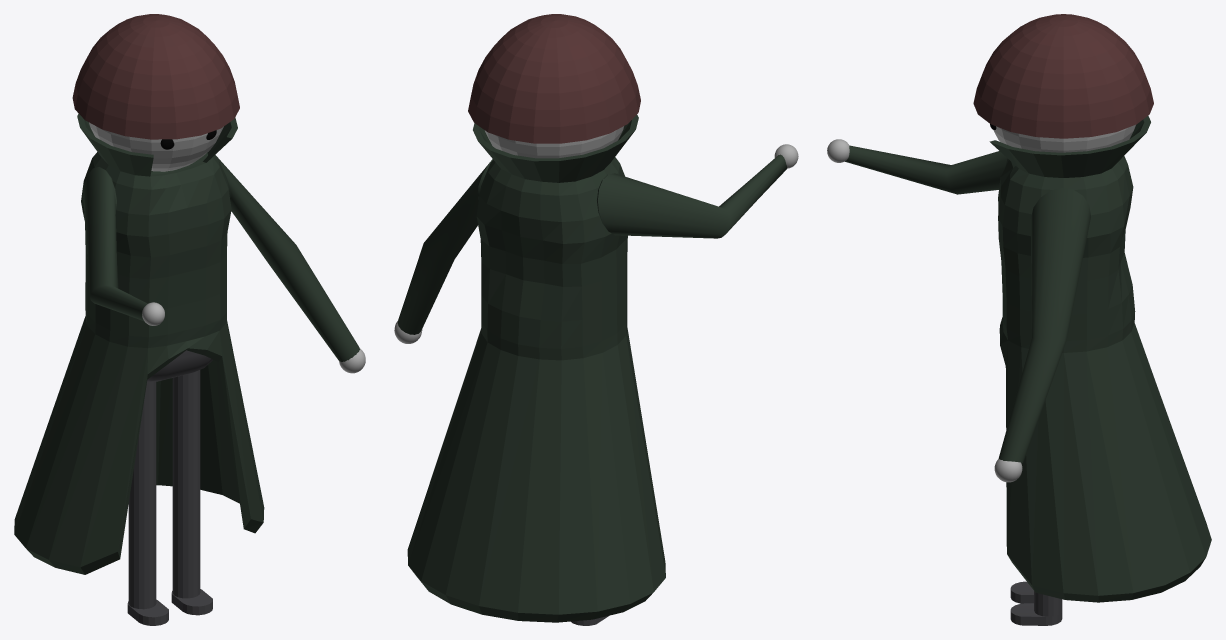
Rendered from maineCharacter.fbx.
The picture shows the model from 3 angles, left to right: view 1: azimuth 30°, elevation 25°; view 2: azimuth 150°, elevation 25°; view 3: azimuth 270°, elevation 25°; orthographic projection. The views are drawn at different scales.
Parts seen in each view (by area): view 1: Jacket, head, left_leg, pCylinder4, right_leg, pCylinder1, Hips; view 2: Jacket, head, pCylinder1, pCylinder4; view 3: Jacket, head, pCylinder4, pCylinder1, left_leg.
Part boxes in pixels (<box>): Jacket: <box>14,113,264,574</box>; head: <box>72,14,239,171</box>; left_leg: <box>171,370,212,615</box>; pCylinder4: <box>217,157,359,361</box>; right_leg: <box>127,381,168,625</box>; pCylinder1: <box>83,167,147,321</box>; Hips: <box>147,350,212,381</box>; Jacket: <box>407,115,665,622</box>; head: <box>468,14,640,158</box>; pCylinder1: <box>597,154,787,238</box>; pCylinder4: <box>397,159,492,334</box>; Jacket: <box>989,115,1211,602</box>; head: <box>973,14,1153,152</box>; pCylinder4: <box>998,188,1090,462</box>; pCylinder1: <box>845,145,1007,194</box>; left_leg: <box>1010,591,1062,625</box>.
Size of the model in its own units: 1.68 by 3.07 by 1.82.
